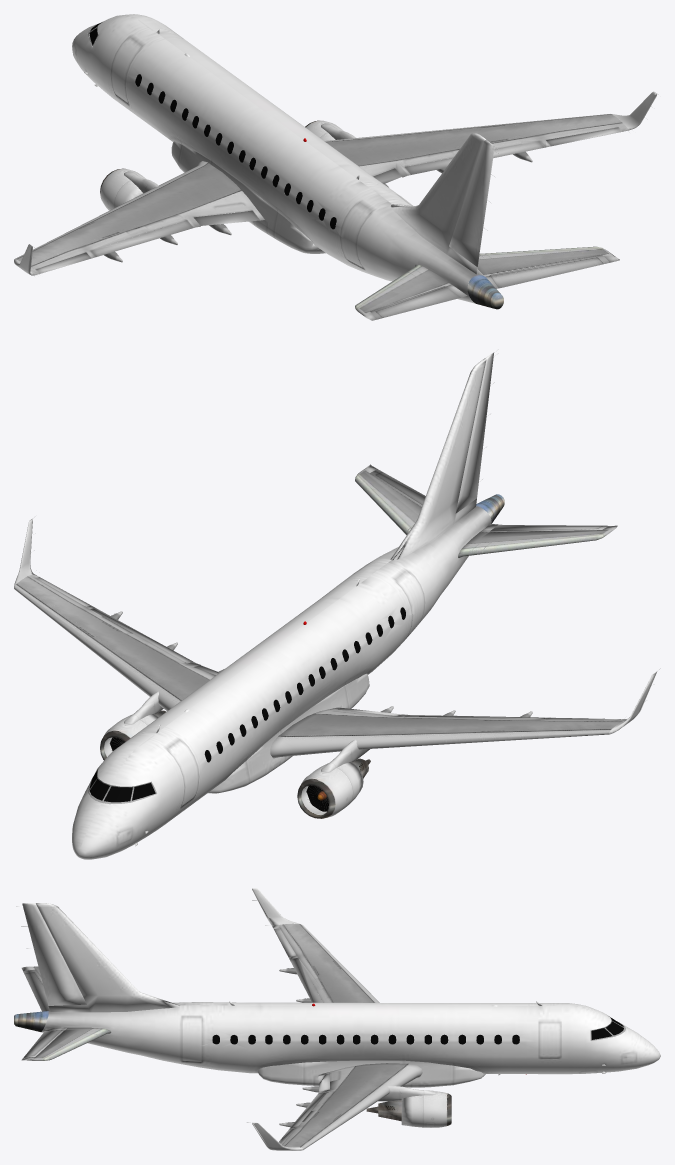
The picture shows the model from 3 angles, top to bottom: view 1: azimuth 30°, elevation 25°; view 2: azimuth 150°, elevation 25°; view 3: azimuth 270°, elevation 25°; orthographic projection. The views are drawn at different scales.
Visible parts, largest first — view 1: geardoor_b_r, hstab, cylinder; view 2: geardoor_b_r, hstab, cylinder; view 3: geardoor_b_r, hstab, cylinder.
Boxes of the visible parts, bbox=[...] form: geardoor_b_r: bbox=[14, 14, 657, 303]; hstab: bbox=[15, 23, 628, 320]; cylinder: bbox=[89, 22, 336, 229]; geardoor_b_r: bbox=[14, 352, 656, 859]; hstab: bbox=[14, 464, 626, 810]; cylinder: bbox=[89, 607, 405, 802]; geardoor_b_r: bbox=[22, 888, 660, 1150]; hstab: bbox=[14, 923, 625, 1149]; cylinder: bbox=[212, 1017, 623, 1044].
Size of the model in its own units: 25.56 by 9.46 by 29.8.
Materials: 9 (5 with a texture image).
